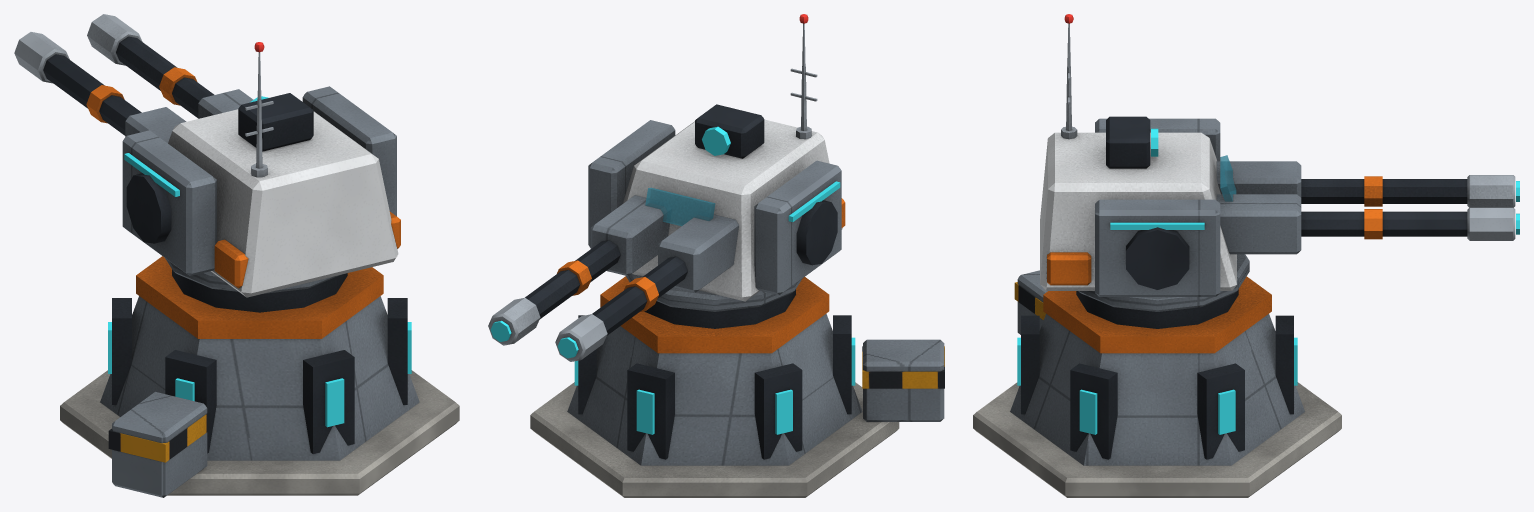
The model's file is torreta_defensa.fbx.
3 views of the same model, side by side, from view 1: azimuth 30°, elevation 25°; view 2: azimuth 150°, elevation 25°; view 3: azimuth 270°, elevation 25° (orthographic). The views are drawn at different scales.
Visible parts, largest first — view 1: torreta_defensa, torreta_defensa_cabeza, torreta_defensa_canones, torreta_defensa_neon; view 2: torreta_defensa, torreta_defensa_cabeza, torreta_defensa_canones, torreta_defensa_neon, torreta_defensa_cristal; view 3: torreta_defensa, torreta_defensa_cabeza, torreta_defensa_canones, torreta_defensa_neon.
Part boxes in pixels (x1,y1,x2,y2): torreta_defensa: (60,256,459,497); torreta_defensa_cabeza: (122,52,400,297); torreta_defensa_canones: (14,14,253,143); torreta_defensa_neon: (108,96,411,427); torreta_defensa: (530,276,944,497); torreta_defensa_cabeza: (588,23,845,311); torreta_defensa_canones: (488,195,738,361); torreta_defensa_neon: (490,126,855,434); torreta_defensa_cristal: (645,187,715,226); torreta_defensa: (973,270,1341,497); torreta_defensa_cabeza: (1040,23,1249,311); torreta_defensa_canones: (1216,161,1515,254); torreta_defensa_neon: (1017,128,1519,434).
Bounding box in the file's own units: 10.11 × 11.84 × 14.82.
3 materials, 3 textured.
